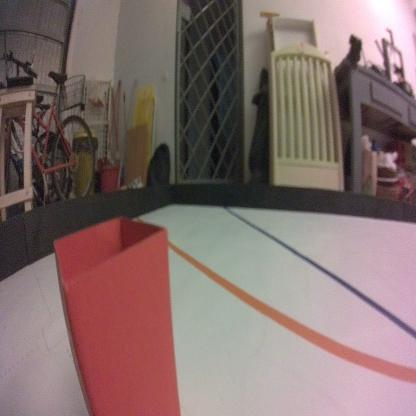red: (52, 215, 180, 416)
